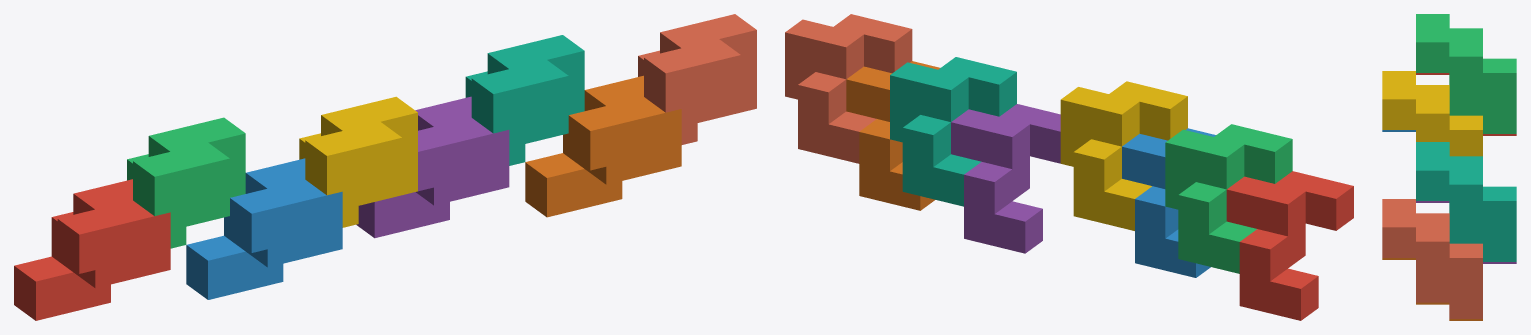
Rendered from tiling.obj.
3 renders of one model, left to right at view 1: azimuth 30°, elevation 25°; view 2: azimuth 150°, elevation 25°; view 3: azimuth 270°, elevation 25°, orthographic. The views are drawn at different scales.
Parts seen in each view (by area): view 1: copy_1_domain_1, copy_1_domain_2, copy_1_domain_6, copy_1_domain_5, copy_1_domain_4, copy_1_domain_8, copy_1_domain_7, copy_1_domain_3; view 2: copy_1_domain_1, copy_1_domain_3, copy_1_domain_4, copy_1_domain_8, copy_1_domain_7, copy_1_domain_5, copy_1_domain_2, copy_1_domain_6; view 3: copy_1_domain_8, copy_1_domain_3, copy_1_domain_7, copy_1_domain_4, copy_1_domain_6, copy_1_domain_1, copy_1_domain_5.
Boxes of the visible parts, left/top/right/bottom form: copy_1_domain_1: left=14, top=179, right=170, bottom=320; copy_1_domain_2: left=186, top=158, right=342, bottom=299; copy_1_domain_6: left=525, top=75, right=681, bottom=217; copy_1_domain_5: left=356, top=96, right=509, bottom=238; copy_1_domain_4: left=299, top=96, right=417, bottom=227; copy_1_domain_8: left=638, top=14, right=756, bottom=144; copy_1_domain_7: left=465, top=35, right=584, bottom=165; copy_1_domain_3: left=127, top=117, right=245, bottom=248; copy_1_domain_1: left=1226, top=171, right=1353, bottom=320; copy_1_domain_3: left=1165, top=124, right=1292, bottom=273; copy_1_domain_4: left=1060, top=81, right=1187, bottom=230; copy_1_domain_8: left=785, top=14, right=912, bottom=163; copy_1_domain_7: left=890, top=57, right=1016, bottom=206; copy_1_domain_5: left=951, top=104, right=1060, bottom=253; copy_1_domain_2: left=1122, top=128, right=1215, bottom=277; copy_1_domain_6: left=846, top=61, right=939, bottom=210; copy_1_domain_8: left=1382, top=199, right=1482, bottom=318; copy_1_domain_3: left=1416, top=14, right=1516, bottom=133; copy_1_domain_7: left=1416, top=142, right=1516, bottom=261; copy_1_domain_4: left=1382, top=71, right=1482, bottom=156; copy_1_domain_6: left=1382, top=258, right=1482, bottom=320; copy_1_domain_1: left=1416, top=73, right=1516, bottom=135; copy_1_domain_5: left=1416, top=201, right=1516, bottom=263.
Bounding box in the file's own units: 18 × 4 × 4.
